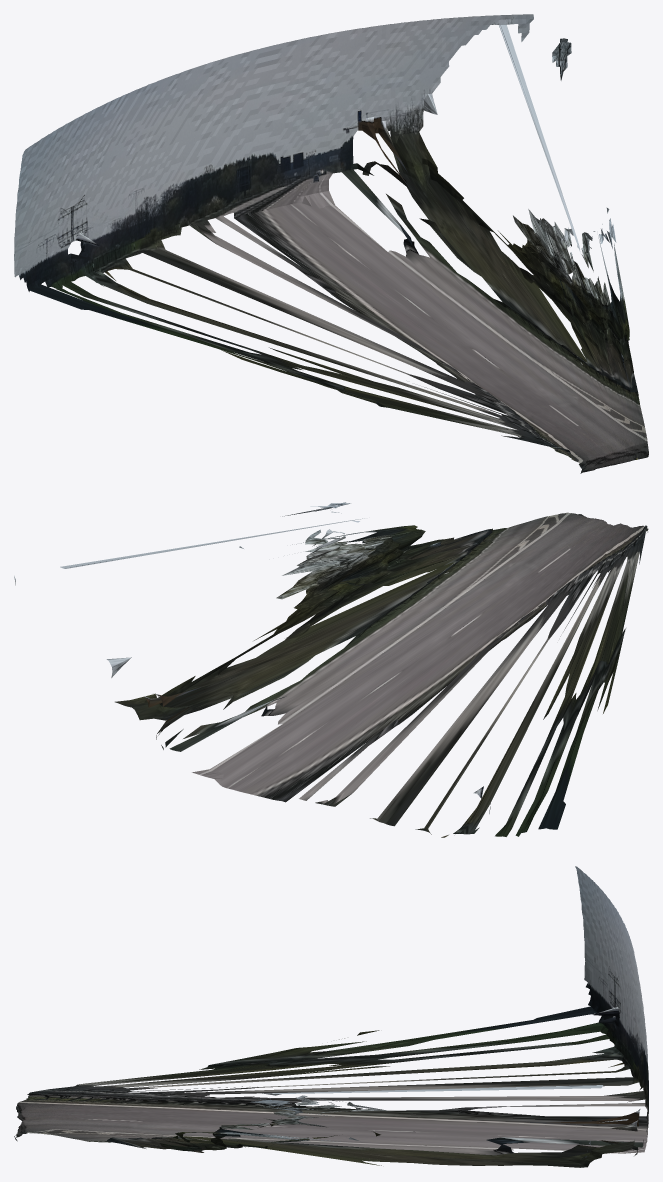
The picture shows the model from 3 angles, top to bottom: view 1: azimuth 30°, elevation 25°; view 2: azimuth 150°, elevation 25°; view 3: azimuth 270°, elevation 25°; orthographic projection. The views are drawn at different scales.
Parts seen in each view (by area): view 1: defaultobject; view 2: defaultobject; view 3: defaultobject.
Boxes of the visible parts, left/top/right/bottom form: defaultobject: left=14, top=14, right=648, bottom=473; defaultobject: left=14, top=502, right=648, bottom=837; defaultobject: left=14, top=866, right=648, bottom=1167.
Size of the model in its own units: 40.33 by 12.65 by 44.48.
1 material, 1 textured.
